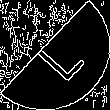L_NW: (25, 26, 85, 84)
